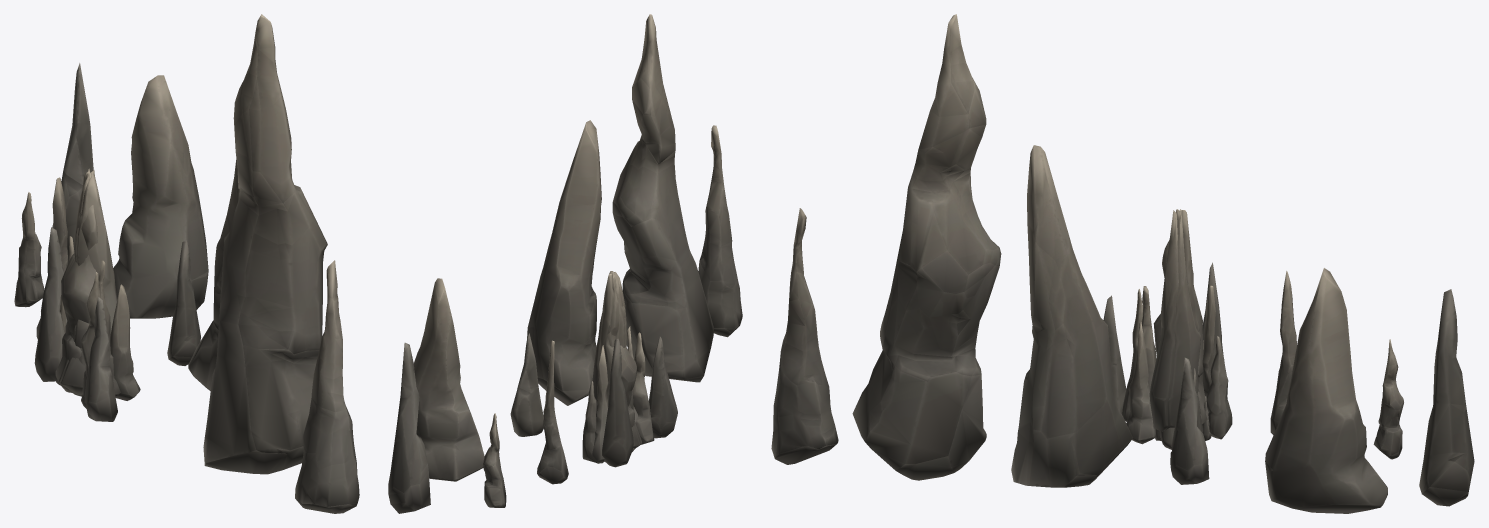
The model's file is PR_StalactitesT_GLTF.gltf.
The picture shows the model from 3 angles, left to right: view 1: azimuth 30°, elevation 25°; view 2: azimuth 150°, elevation 25°; view 3: azimuth 270°, elevation 25°; orthographic projection. The views are drawn at different scales.
Visible parts, largest first — view 1: PR_Stalactite_v10, PR_Stalactite_v08, PR_Stalactite_v07, PR_Stalactite_v02, PR_Stalactite_v04; view 2: PR_Stalactite_v10, PR_Stalactite_v07, PR_Stalactite_v08, PR_Stalactite_v04, PR_Stalactite_v03; view 3: PR_Stalactite_v10, PR_Stalactite_v08, PR_Stalactite_v07, PR_Stalactite_v04.
Part boxes in pixels (box(x1,y1,x2,y2)): PR_Stalactite_v10: box(14, 14, 359, 513); PR_Stalactite_v08: box(56, 173, 140, 408); PR_Stalactite_v07: box(34, 171, 120, 396); PR_Stalactite_v02: box(63, 172, 97, 396); PR_Stalactite_v04: box(55, 172, 91, 383); PR_Stalactite_v10: box(388, 14, 742, 513); PR_Stalactite_v07: box(582, 274, 637, 467); PR_Stalactite_v08: box(592, 272, 654, 463); PR_Stalactite_v04: box(592, 273, 639, 448); PR_Stalactite_v03: box(601, 273, 615, 352); PR_Stalactite_v10: box(771, 14, 1474, 513); PR_Stalactite_v08: box(1122, 210, 1215, 444); PR_Stalactite_v07: box(1141, 209, 1232, 440); PR_Stalactite_v04: box(1163, 212, 1200, 430).
Bounding box in the file's own units: 6.15 × 11.99 × 16.62.
Materials: 1 (1 with a texture image).
